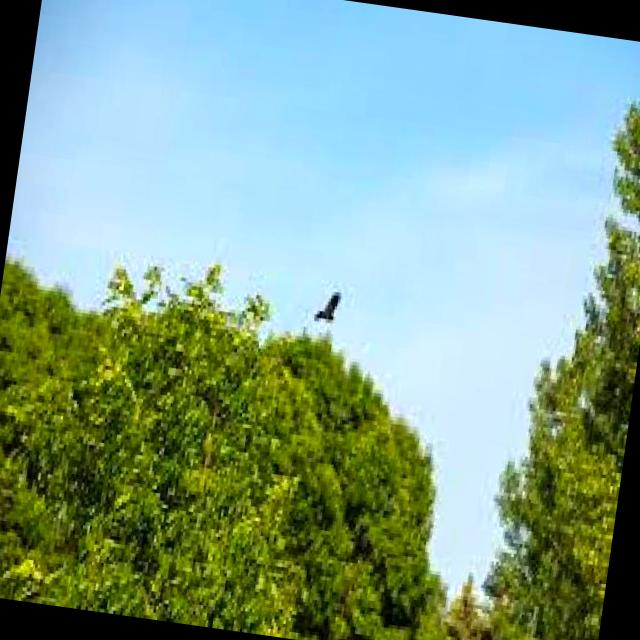bird: (306, 271, 352, 339)
